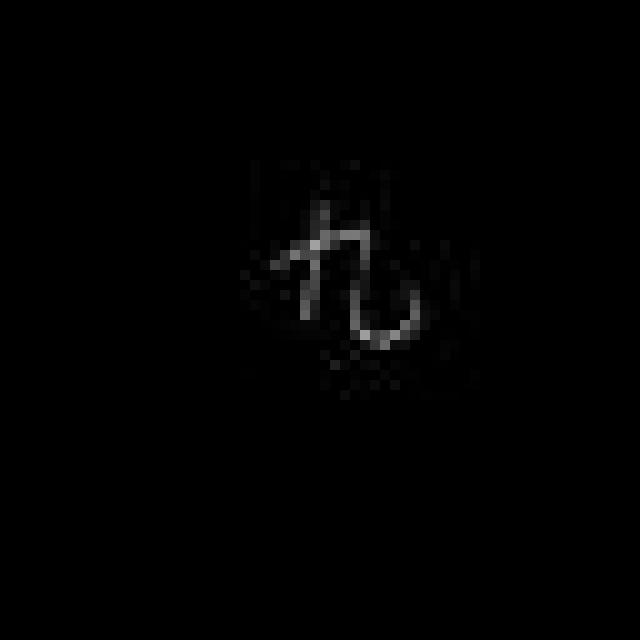9 -nine-: (274, 202, 424, 354)
